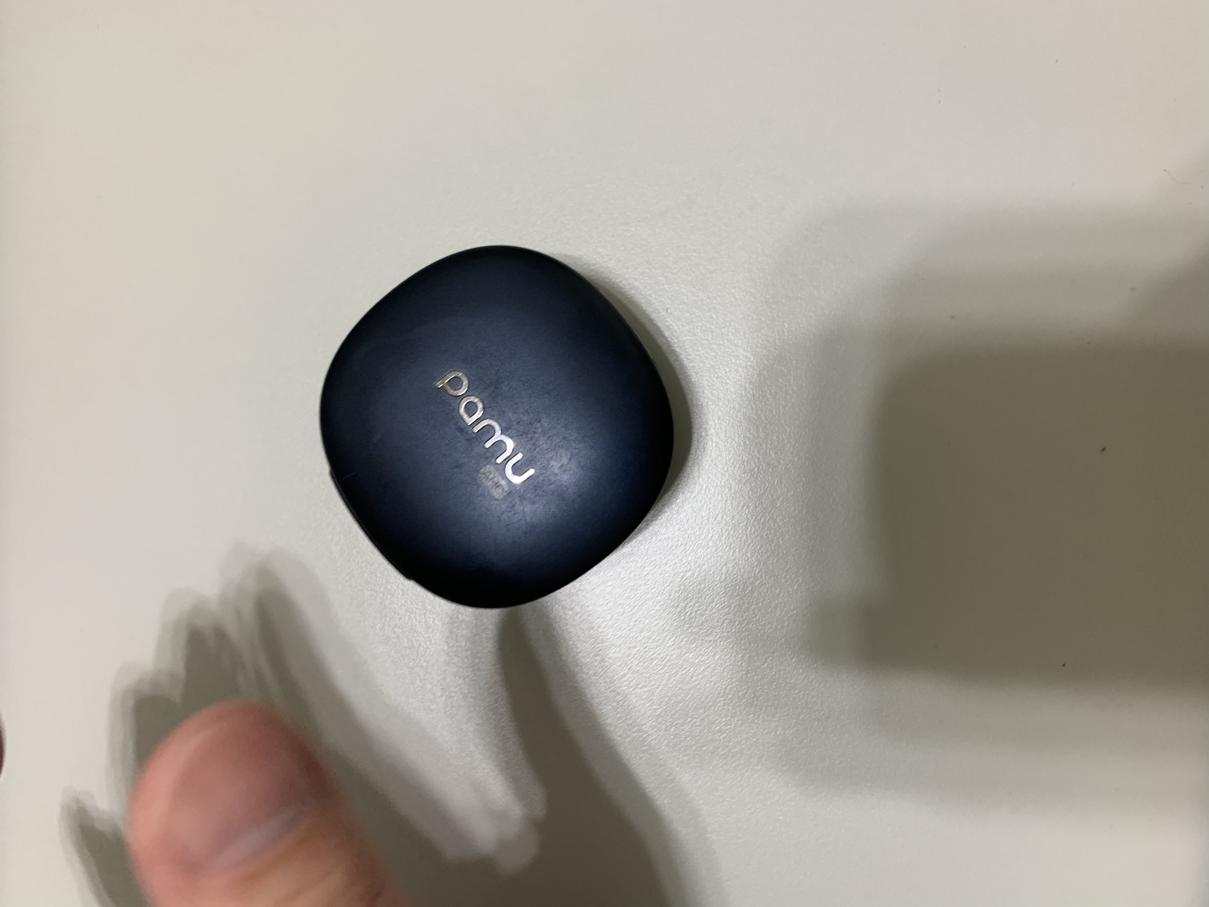pami: (306, 246, 676, 610)
